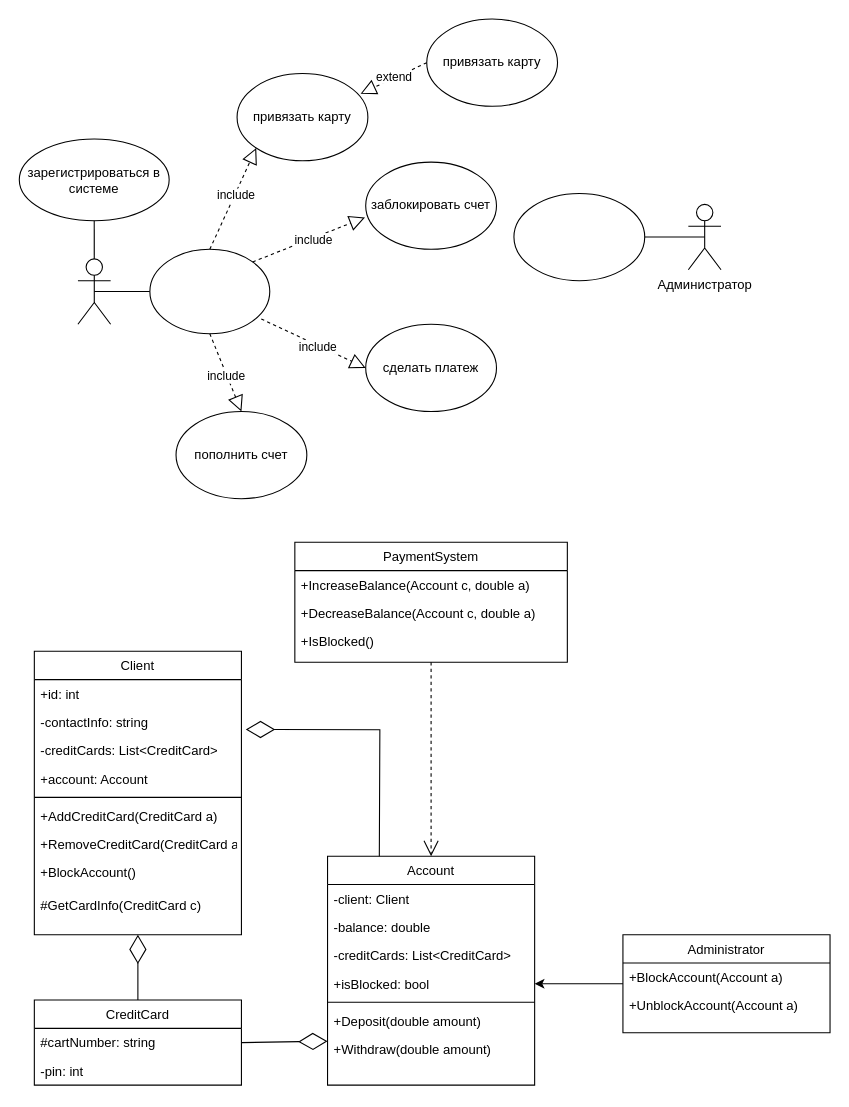
This 849x1107 diagram has some shape labels left out. Here are the shapes that lost their labels. From the top down, the centre of each, then its label:
At (x=579, y=236): "разблокировать счет".
At (x=94, y=291): "Клиент".
At (x=209, y=291): "управление счетом".
